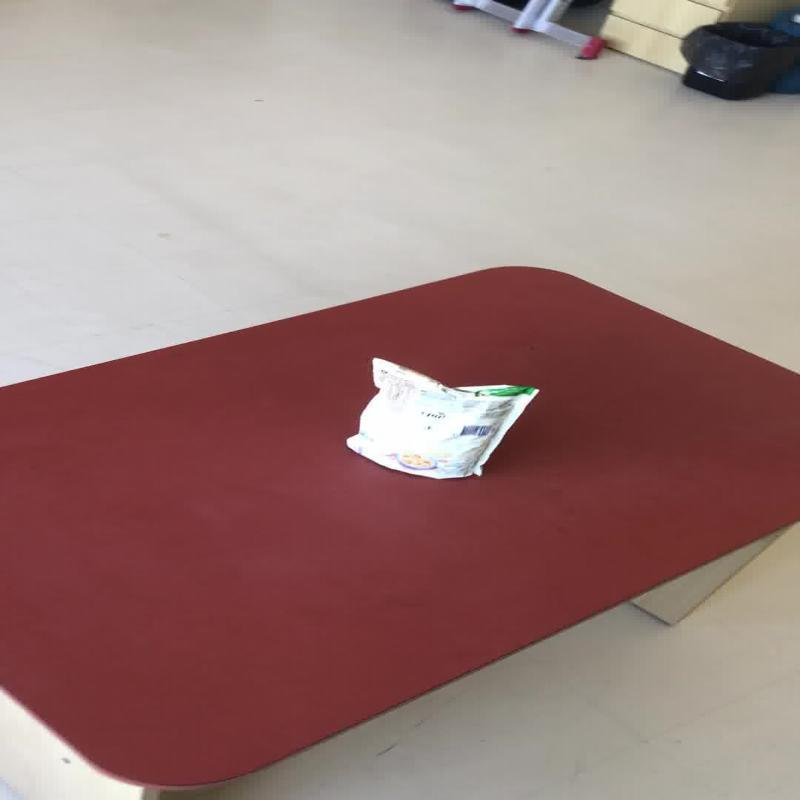corn flakes: (342, 356, 538, 480)
